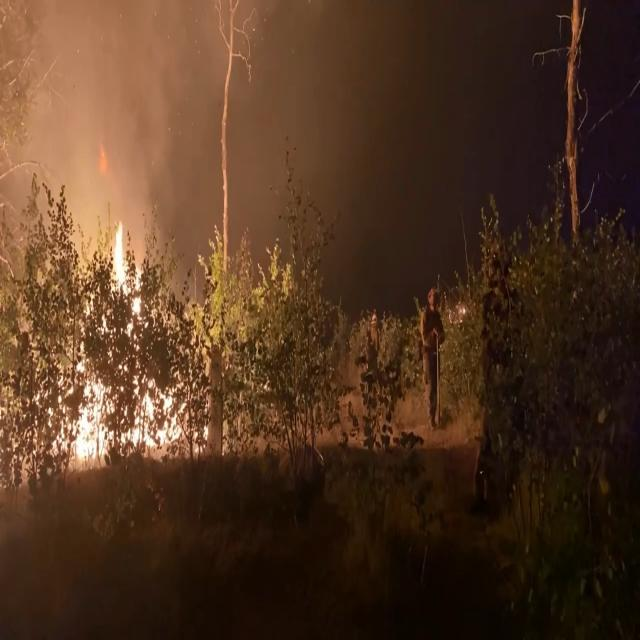Fire: (65, 205, 184, 460)
